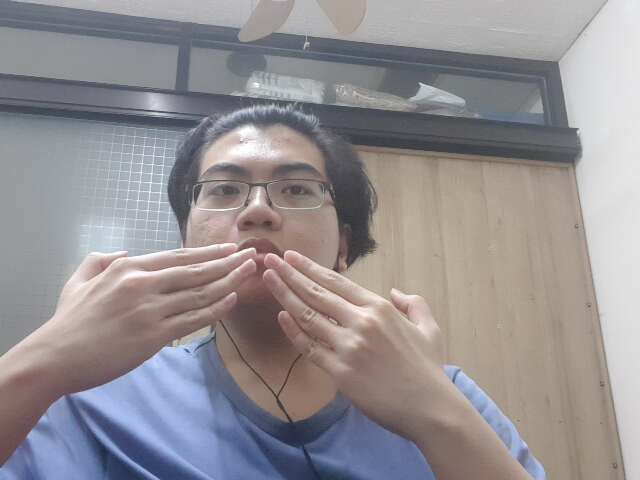thanks: (42, 242, 480, 438)
